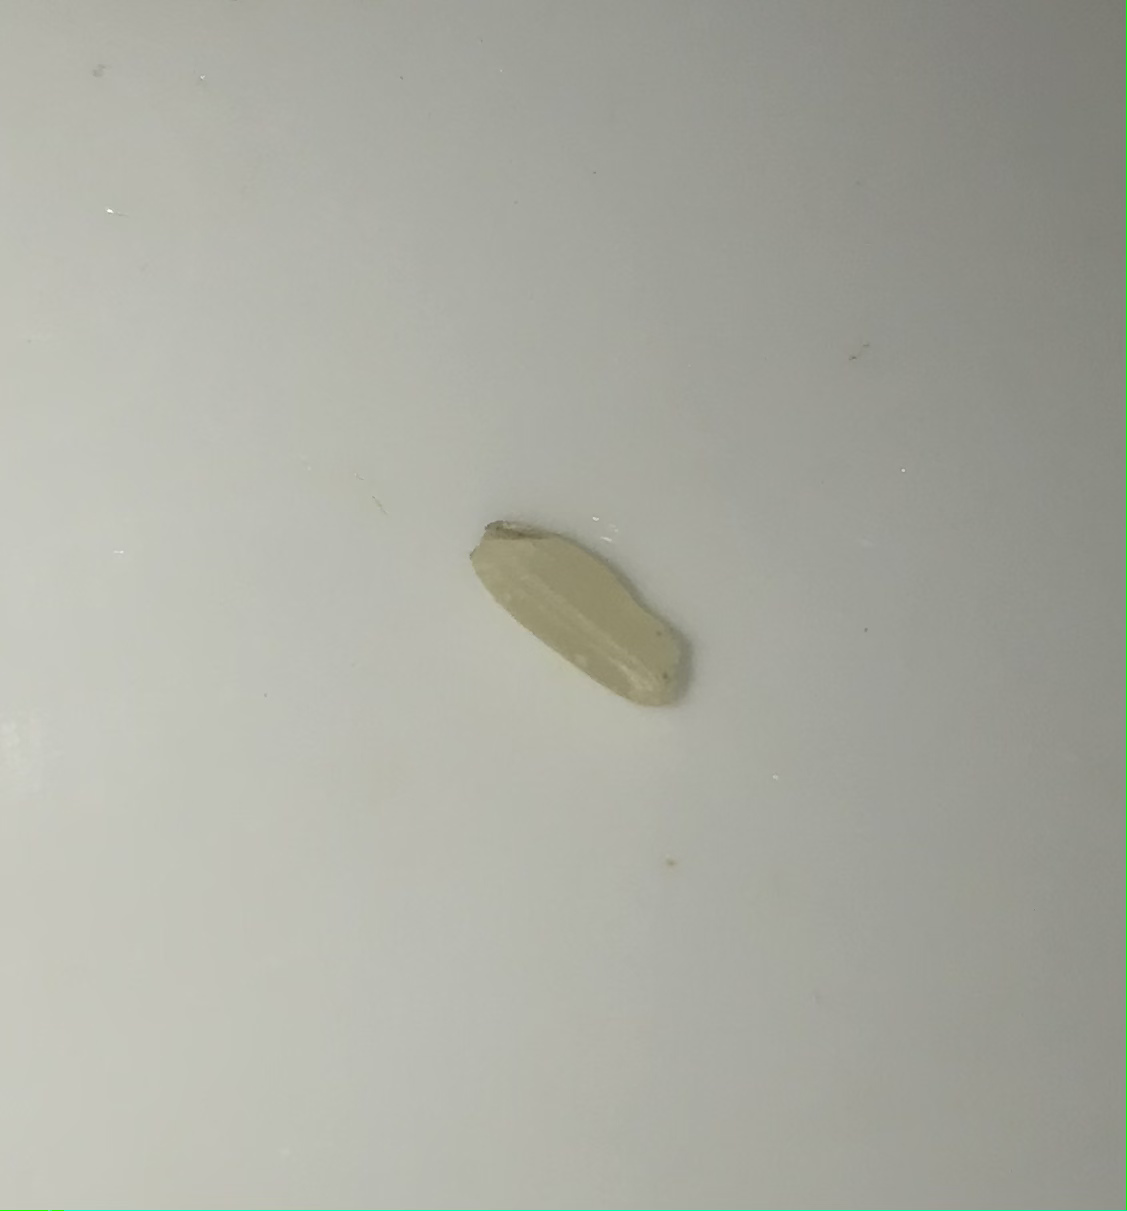Gao Lut Trang: (465, 499, 730, 723)
